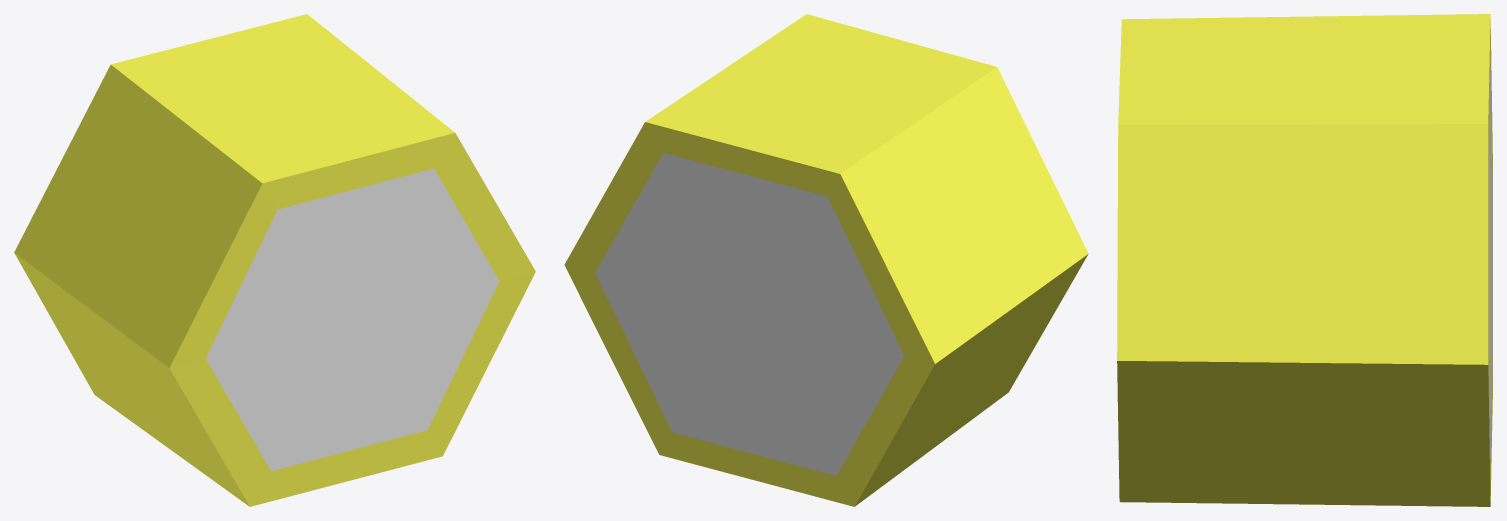
The model's file is banana03.gltf.
3 renders of one model, left to right at view 1: azimuth 30°, elevation 25°; view 2: azimuth 150°, elevation 25°; view 3: azimuth 270°, elevation 25°, orthographic. The views are drawn at different scales.
Visible parts, largest first — view 1: Cylinder; view 2: Cylinder; view 3: Cylinder.
Part boxes in pixels (x1,y1,x2,y2): Cylinder: (14, 14, 535, 506); Cylinder: (564, 14, 1088, 506); Cylinder: (1117, 14, 1492, 506).
Size of the model in its own units: 0.0481 by 0.0409 by 0.0352.
1 material, 1 textured.
